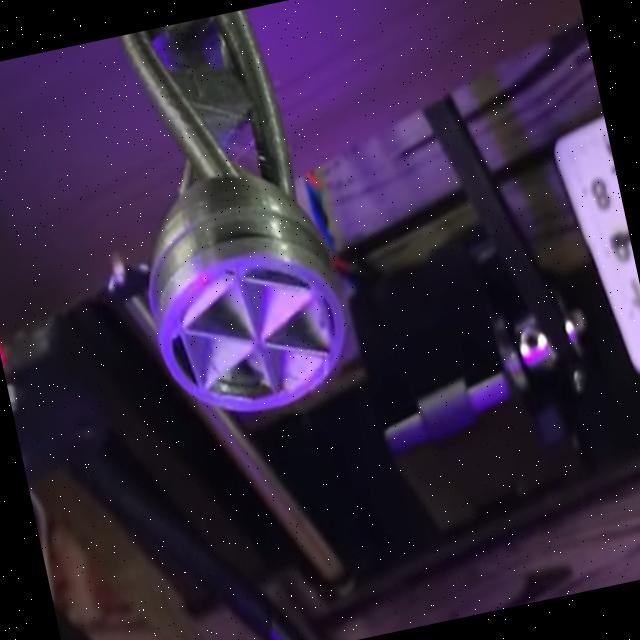stringing: (186, 84, 266, 179)
